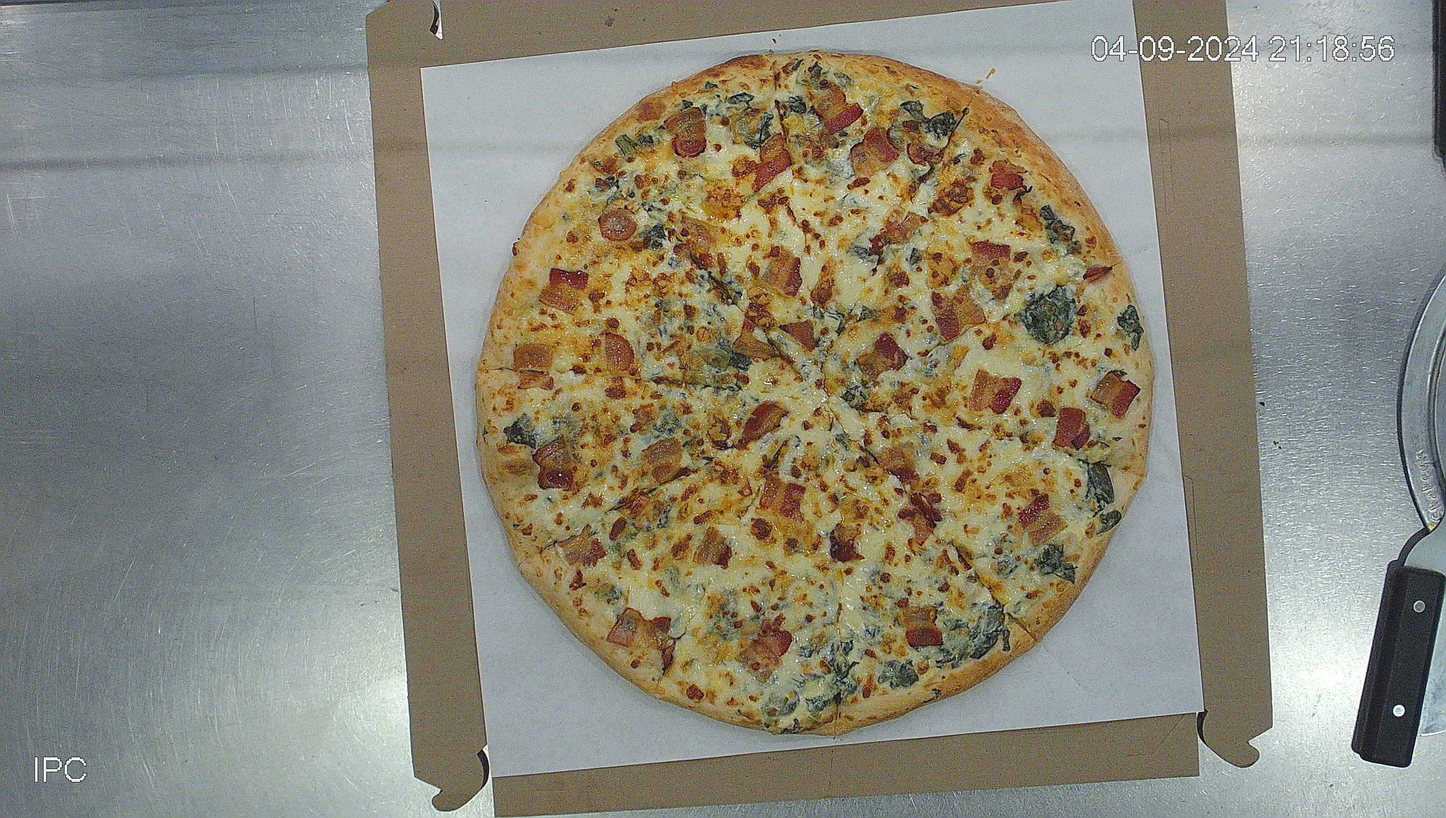pepporoni: (470, 40, 1157, 737)
